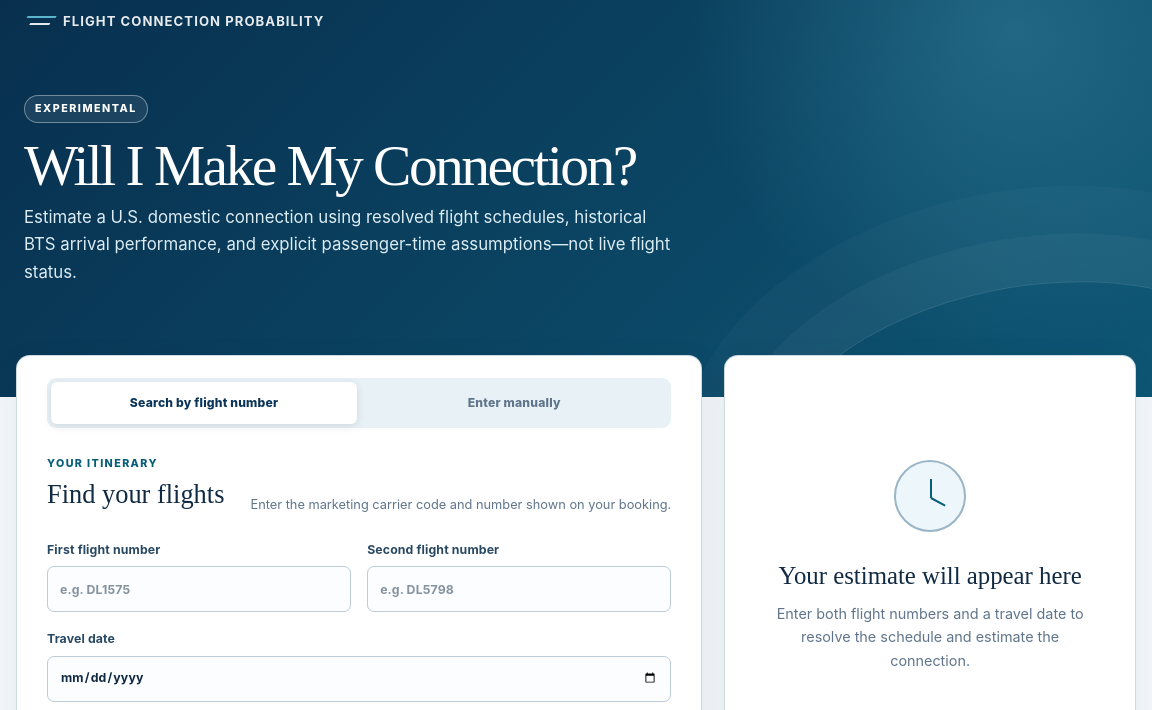
Test: ConnectionRiskCalculator › resubmits an explicitly selected ambiguous candidate
The image size is (1152, 710).
Type "dl 1575" into the field labelled "First flight number".
click(199, 589); type("dl 1575")  # box [47,566,351,612]
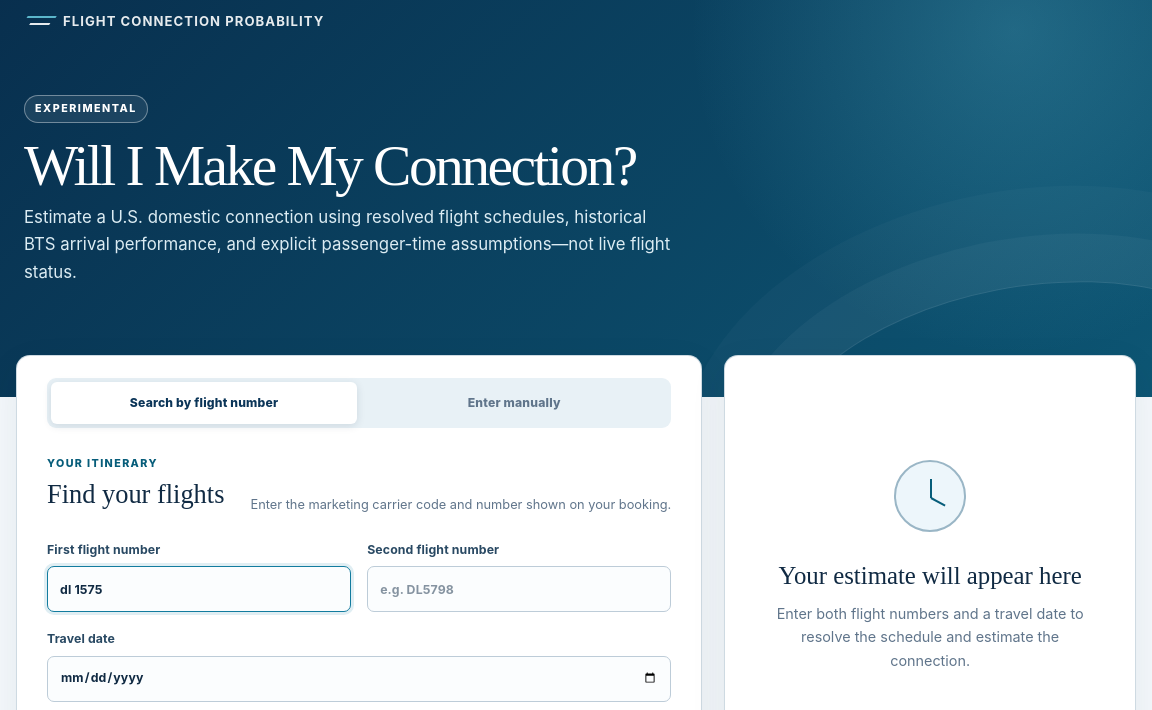
Type "DL5798" into the field labelled "Second flight number".
click(519, 589); type("DL5798")  # box [367,566,671,612]
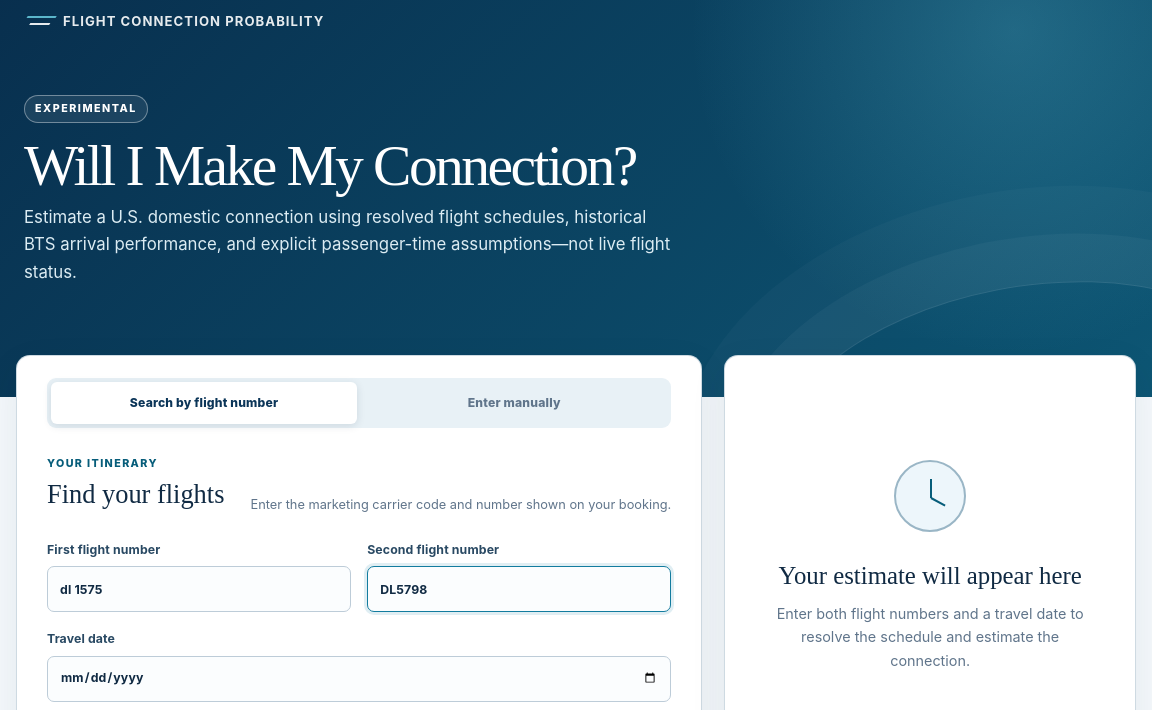
Type "2026-08-20" into the date field labelled "Travel date".
click(359, 678); type("2026-08-20")  # box [47,656,671,702]
(page scrolled)
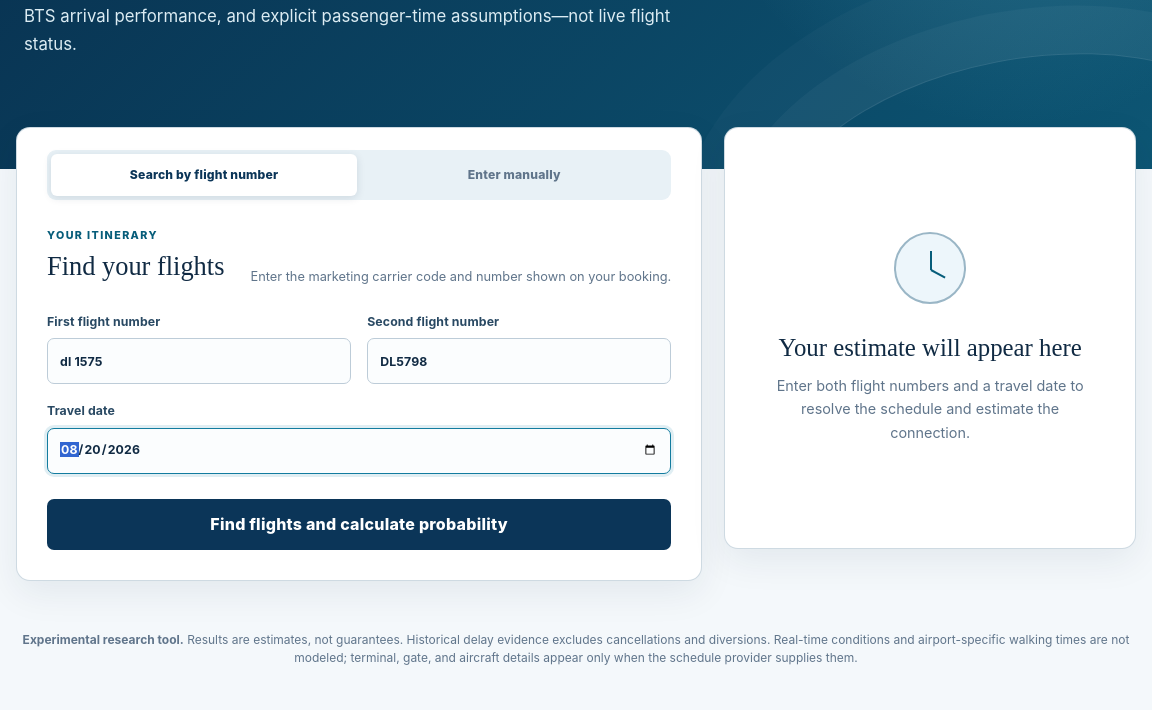
Click the button "Find flights and calculate probability".
click(359, 524)  # box [47,498,671,550]
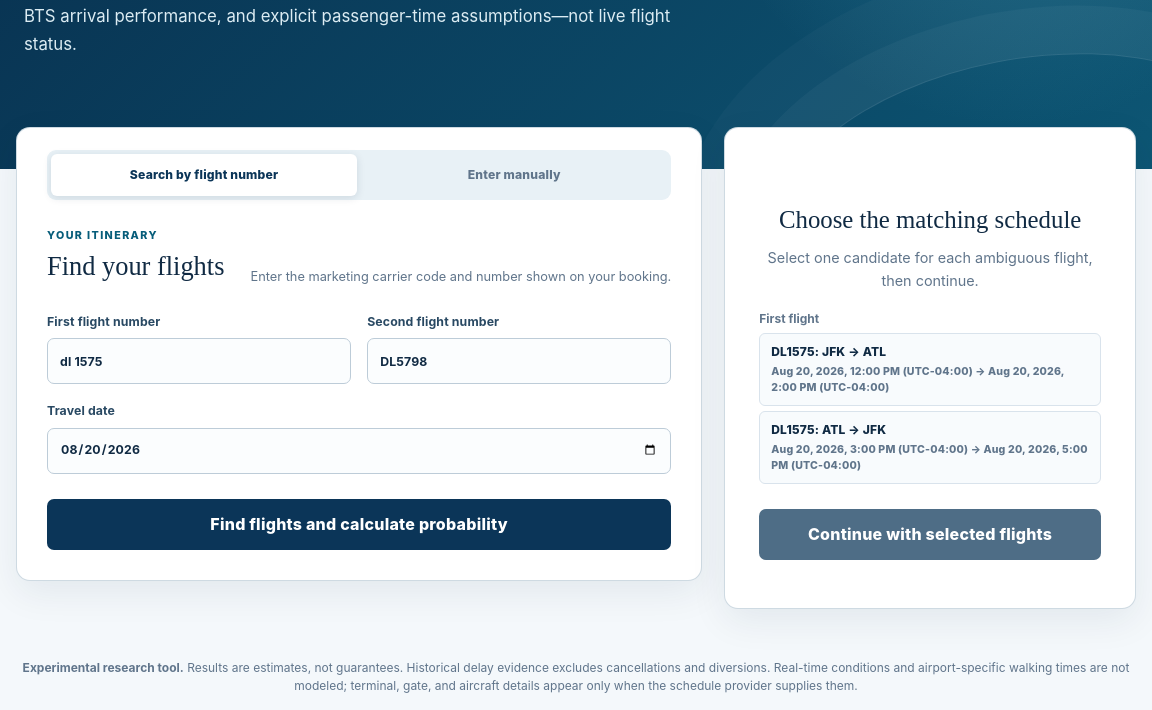
expect the heading "Choose the matching schedule" is shown: met, box [779,201,1081,238]
expect the button "Continue with selected flights" is disabled: met, box [759,508,1101,560]
Click the button "DL1575: ATL → JFK".
click(930, 447)  # box [759,411,1101,484]
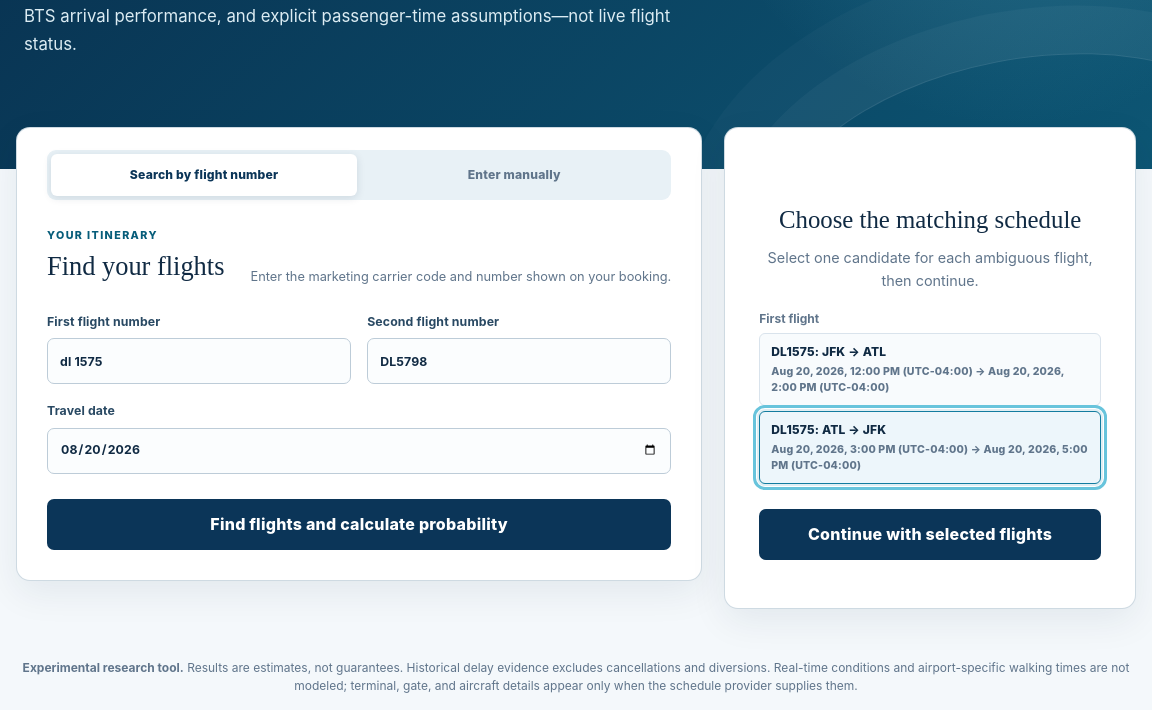
expect the button "Continue with selected flights" is enabled: met
Click the button "Continue with selected flights".
click(930, 534)  # box [759,508,1101,560]
(page scrolled)
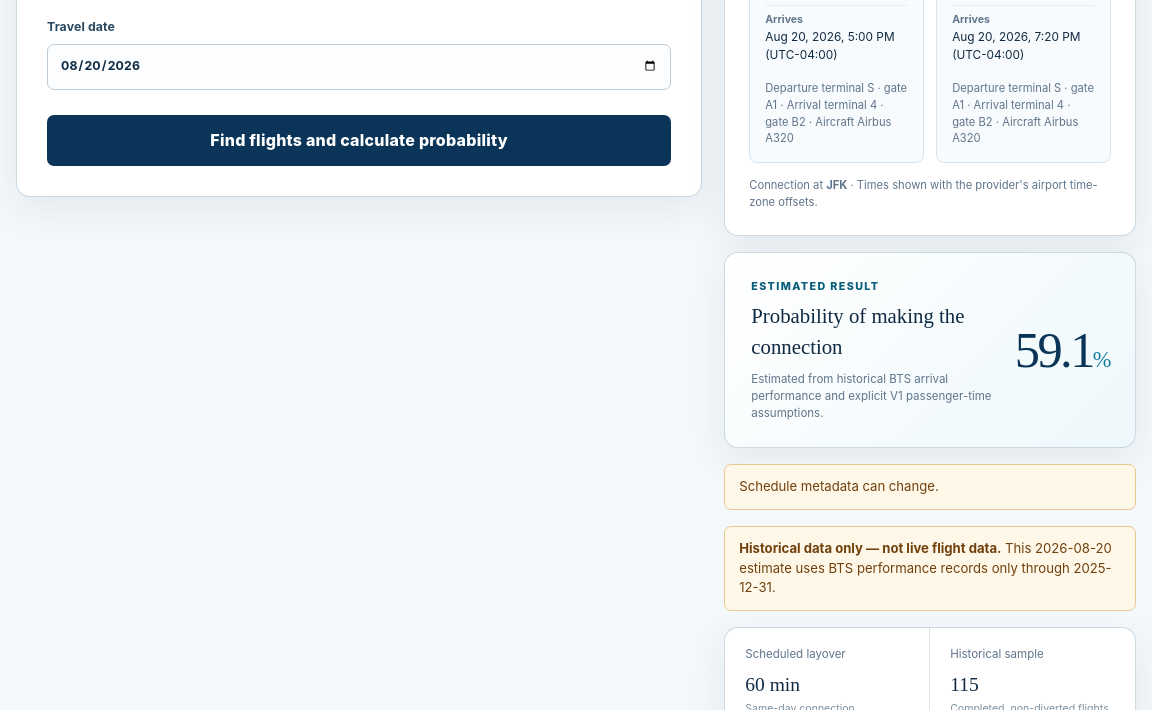
expect the text "59.1" is shown: met, box [1015,322,1093,378]
